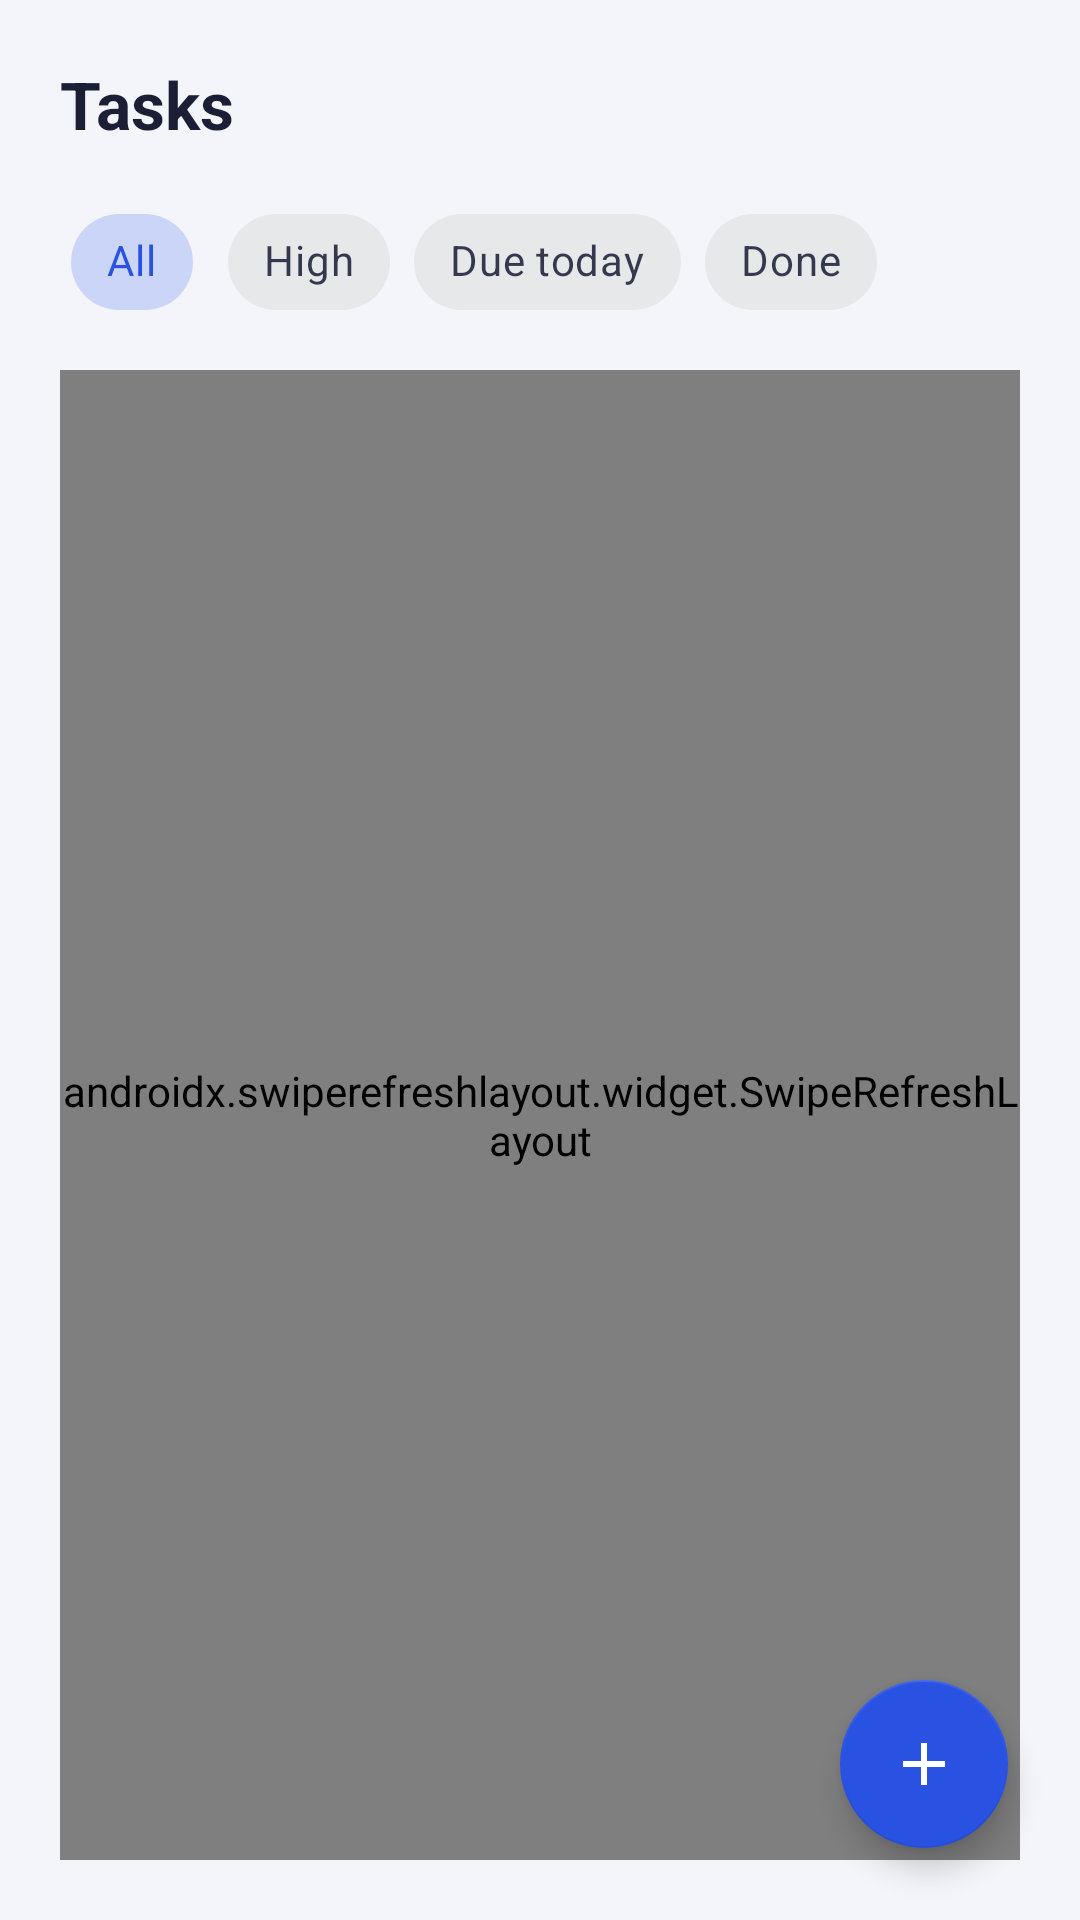

Icon click points for this 1080w x 1920h phone screenshot, format (x,y):
Add task: (924,1764)
